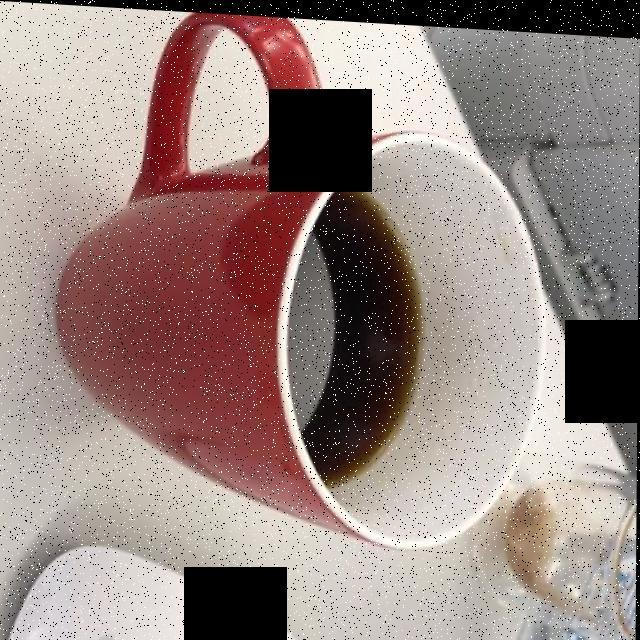coffee: (265, 182, 422, 470)
